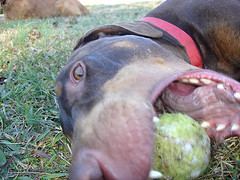tennis ball: (141, 108, 216, 180)
